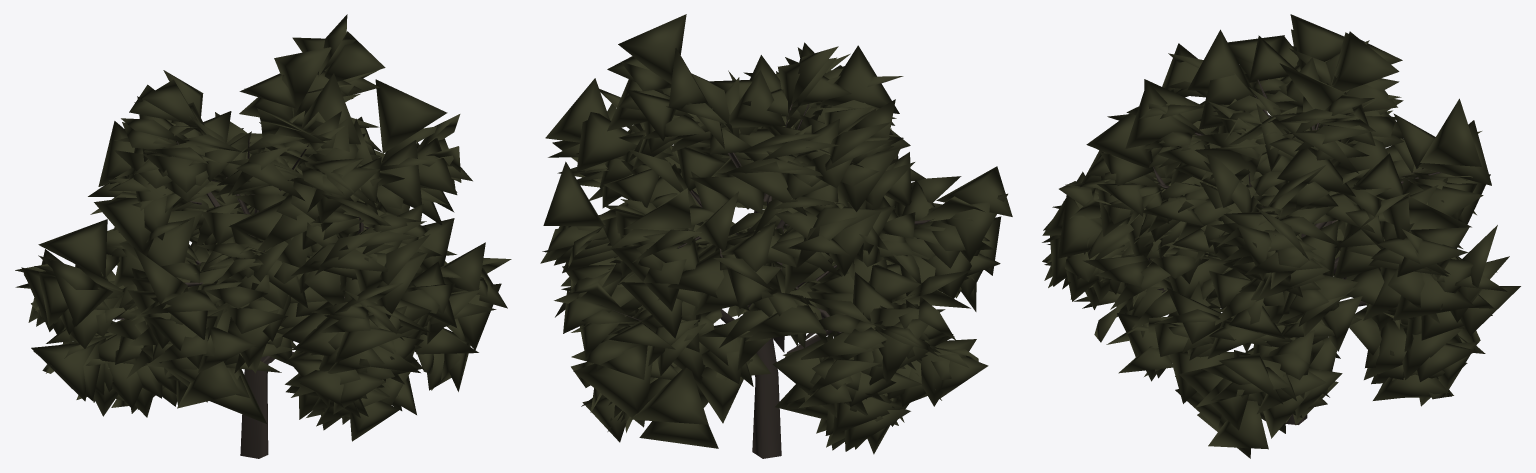
The model's file is Tree.glb.
3 renders of one model, left to right at view 1: azimuth 30°, elevation 25°; view 2: azimuth 150°, elevation 25°; view 3: azimuth 270°, elevation 25°, orthographic. The views are drawn at different scales.
Visible parts, largest first — view 1: SM_Tree; view 2: SM_Tree; view 3: SM_Tree.
Part boxes in pixels (x1,y1,x2,y2): SM_Tree: (15, 14, 511, 458); SM_Tree: (540, 14, 1012, 458); SM_Tree: (1042, 14, 1520, 458).
Size of the model in its own units: 8.2 by 7.15 by 7.82.
1 material, 1 textured.
